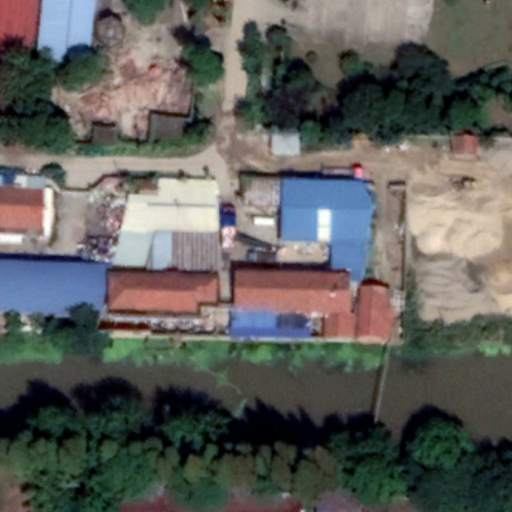msw: (76, 194, 125, 261)
